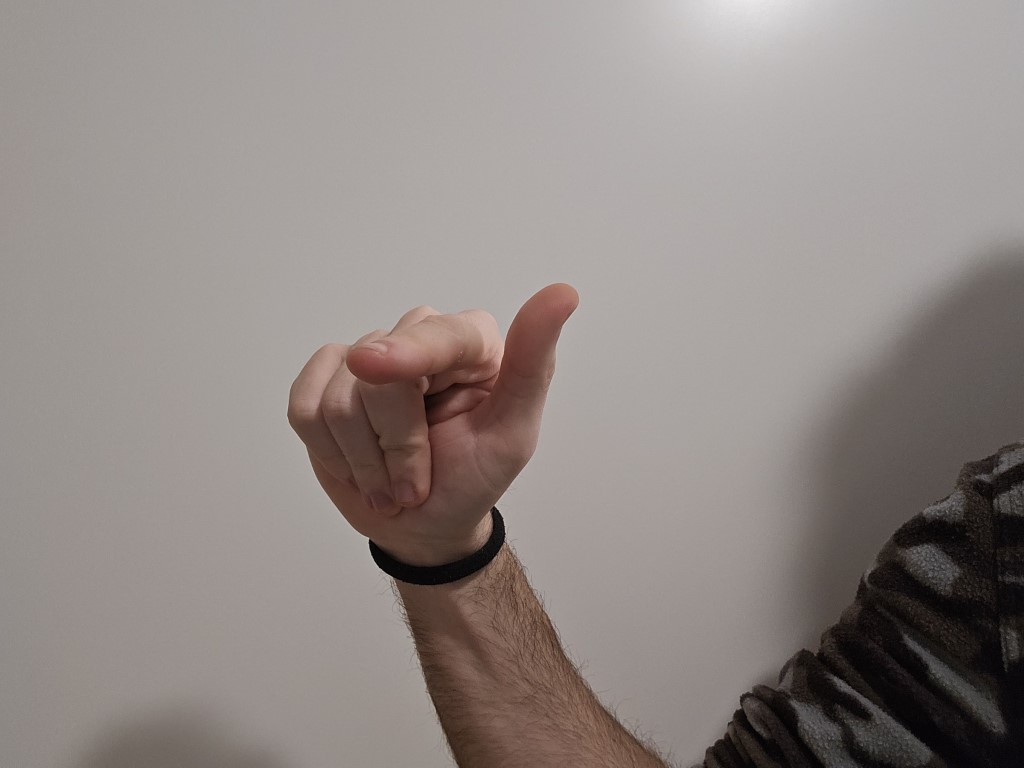t: (235, 259, 605, 525)
